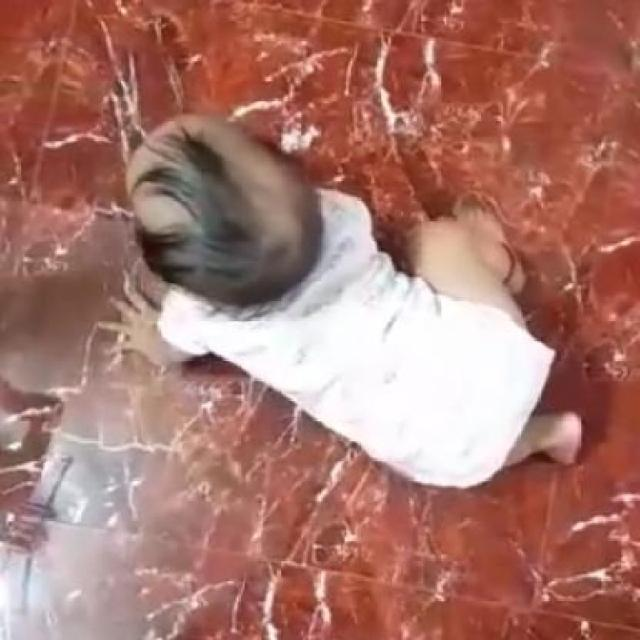baby: (94, 109, 582, 500)
